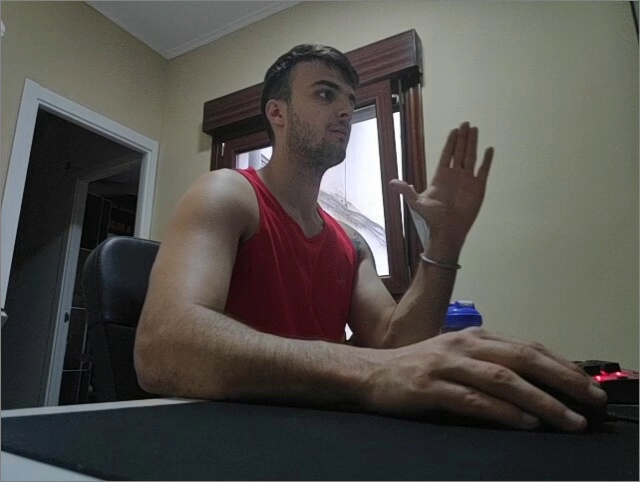Palm: (387, 119, 495, 242)
